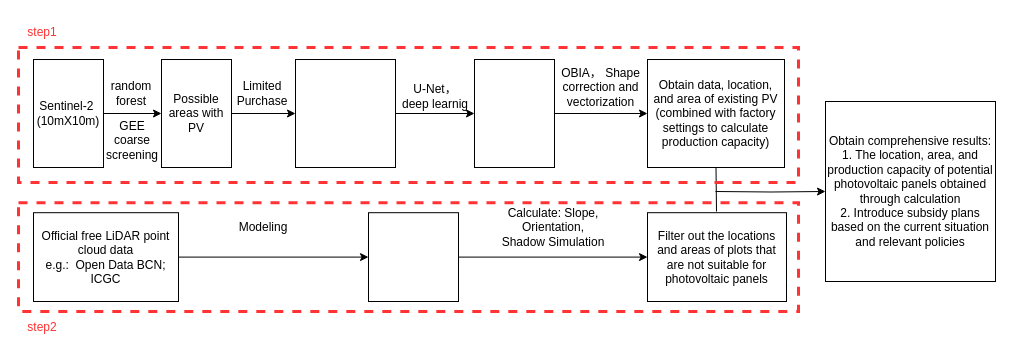
Some shapes in this 1013 by 359 pixel diagram are drawn without their labels. The centre of each missing label's shape, as x and y in pixels:
"DEM modle" belongs at point (413, 257).
"Fine commercial remote sensing data eg：Airbus (50cm/30cm)" belongs at point (345, 113).
"Grid data after learning and classification" belongs at point (514, 113).
